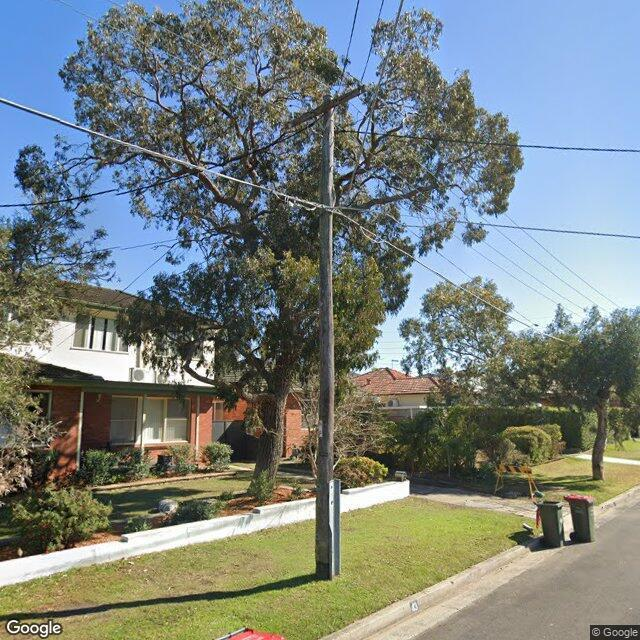crossarm: (284, 84, 366, 129)
timber-pole: (314, 94, 340, 580)
